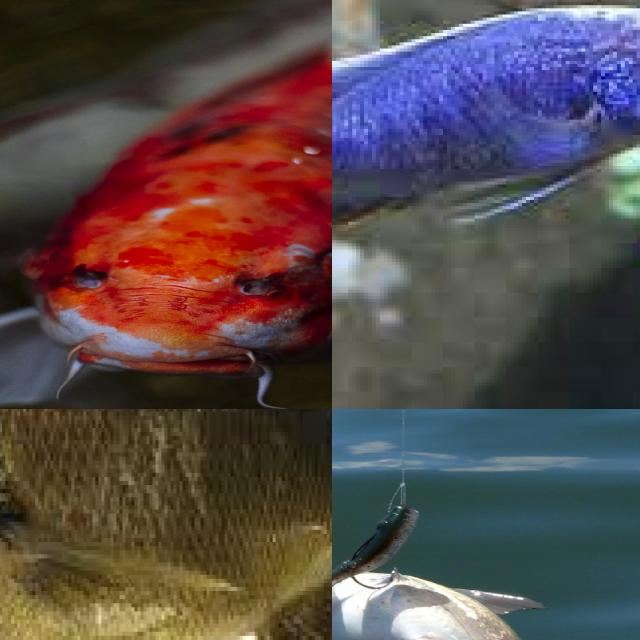fish: (0, 0, 332, 409), (332, 0, 640, 246), (120, 409, 332, 605), (332, 487, 582, 640)
